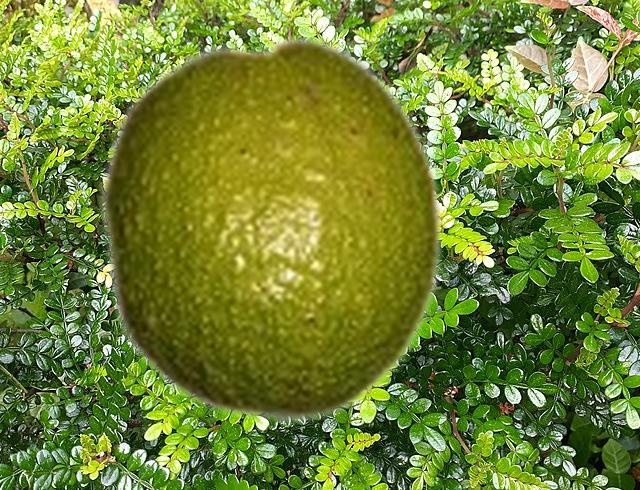avocado: (97, 32, 445, 426)
